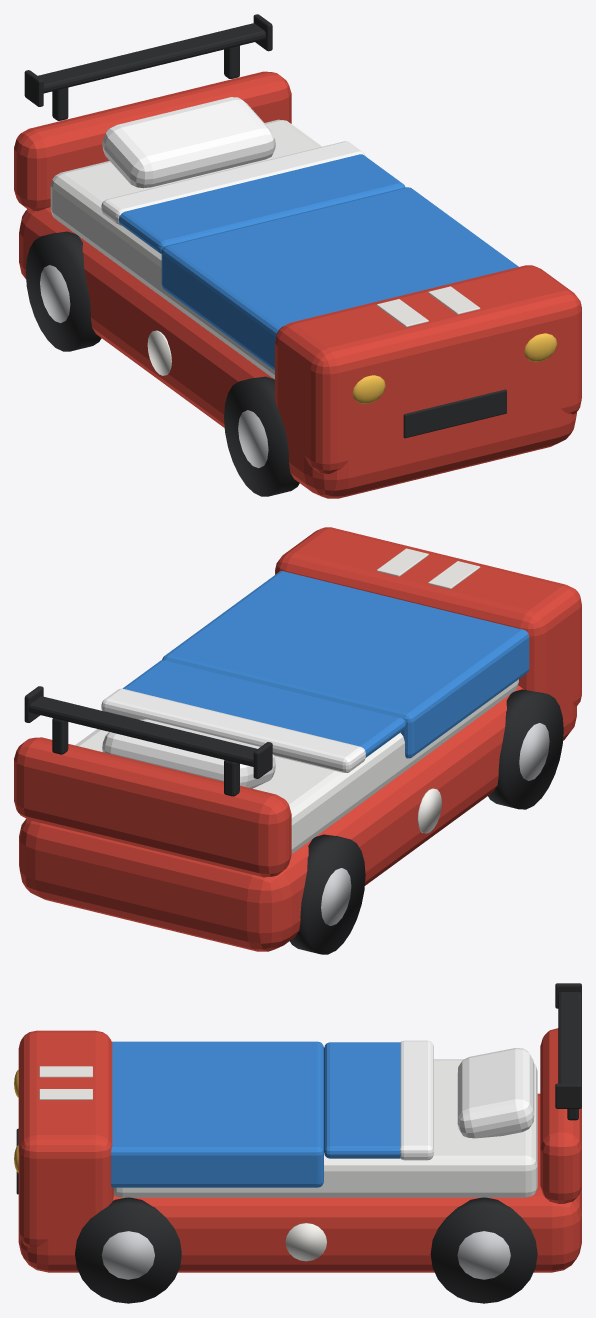
The model's file is kidsBedCar.glb.
3 renders of one model, top to bottom at view 1: azimuth 30°, elevation 25°; view 2: azimuth 150°, elevation 25°; view 3: azimuth 270°, elevation 25°, orthographic. The views are drawn at different scales.
Parts seen in each view (by area): view 1: bed, duvet_flap; view 2: bed, duvet_flap; view 3: bed, duvet_flap.
Boxes of the visible parts, box(x1,y1,x2,y2) form: bed: box(14, 14, 581, 498); duvet_flap: box(101, 141, 405, 253); bed: box(14, 527, 581, 954); duvet_flap: box(101, 660, 405, 772); bed: box(14, 983, 581, 1303); duvet_flap: box(324, 1040, 433, 1160).
Bounding box in the file's own units: 0.985 × 0.775 × 1.92.
